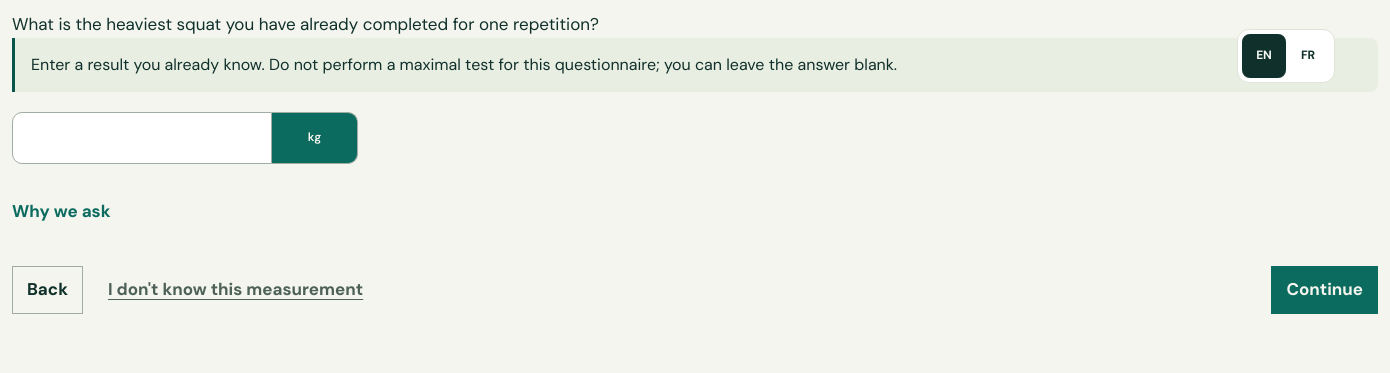
keeps an impossible squat_one_rep_max_kg answer on screen with a described error
Step 1. Type "0" into the number field → {"x": 142, "y": 138}, box x1=12 y1=112 x2=272 y2=164
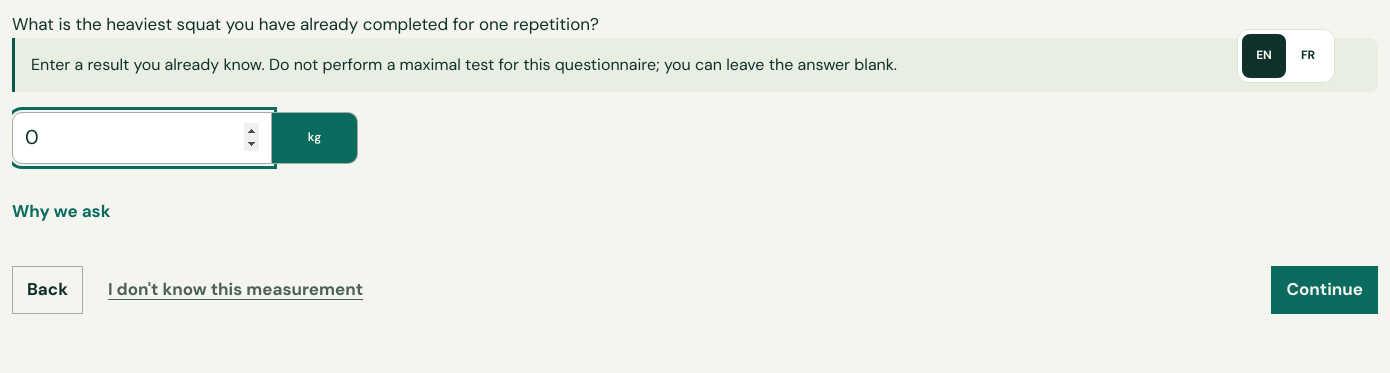
Step 2. Click the button "Continue" → {"x": 1325, "y": 290}, box x1=1271 y1=266 x2=1378 y2=314
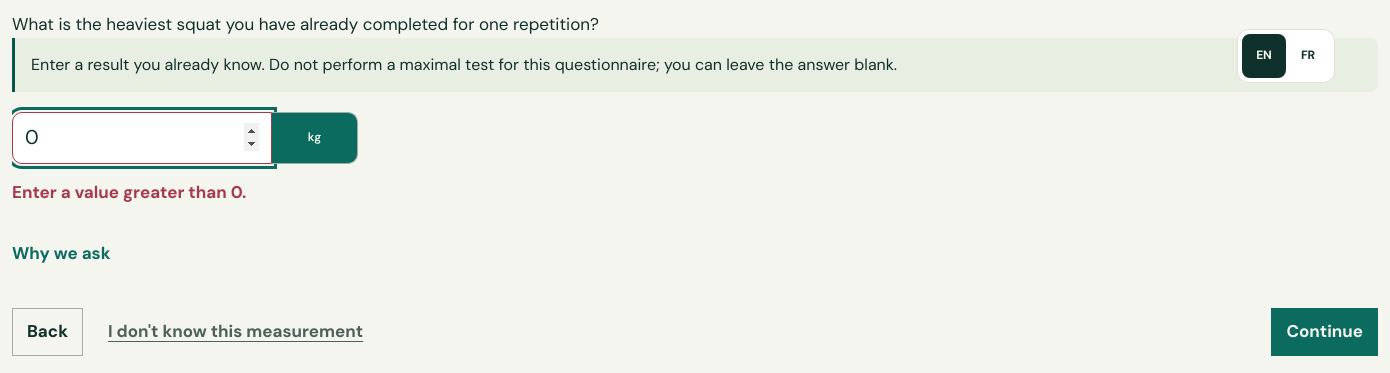
Check: the message "Enter a value greater than 0." is shown, box x1=12 y1=181 x2=246 y2=203
